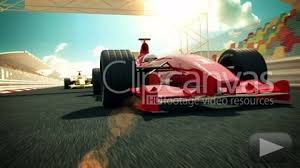FormulaOneCar: (89, 36, 296, 112)
